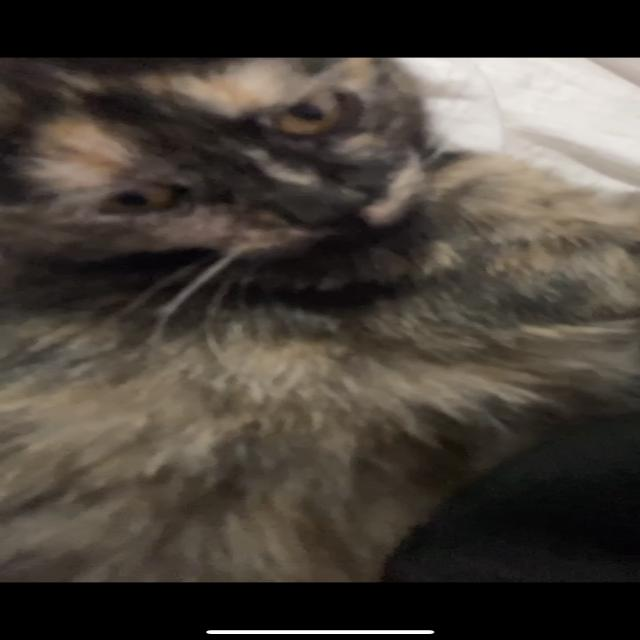authorized: (2, 56, 637, 582)
